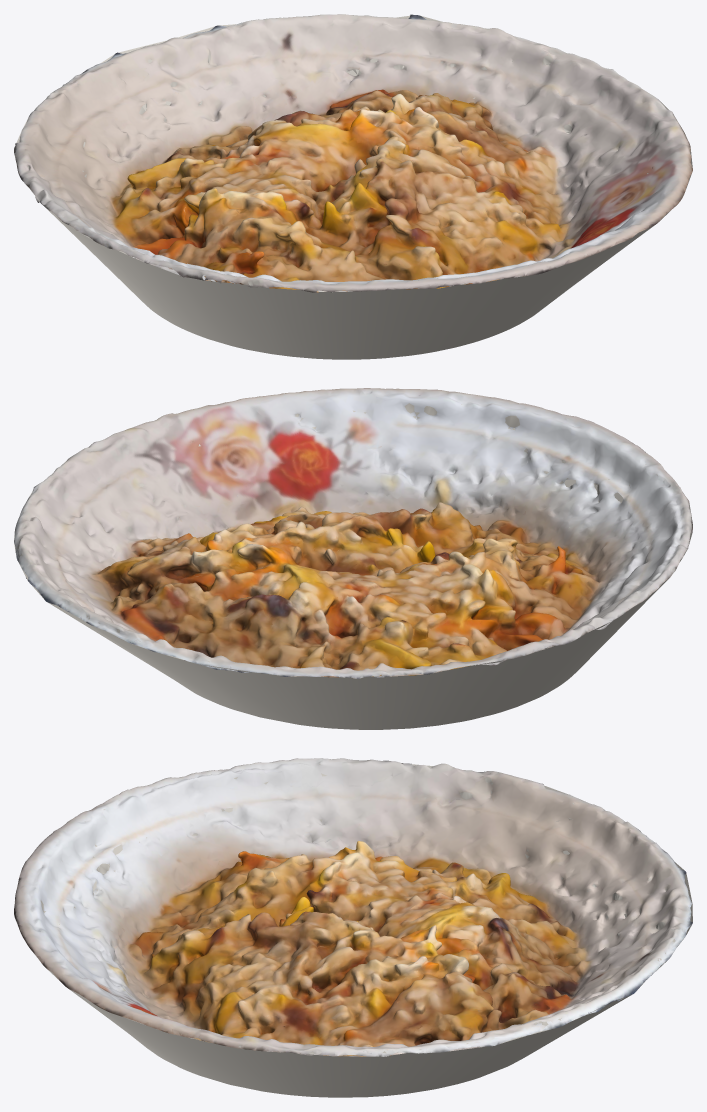
The model's file is osh.glb.
3 renders of one model, top to bottom at view 1: azimuth 30°, elevation 25°; view 2: azimuth 150°, elevation 25°; view 3: azimuth 270°, elevation 25°, orthographic.
Parts seen in each view (by area): view 1: Mesh_0_Part_0; view 2: Mesh_0_Part_0; view 3: Mesh_0_Part_0.
Part boxes in pixels (bbox=[...]): Mesh_0_Part_0: bbox=[14, 14, 692, 359]; Mesh_0_Part_0: bbox=[14, 388, 692, 729]; Mesh_0_Part_0: bbox=[14, 758, 692, 1097].
Size of the model in its own units: 0.2104 by 0.0399 by 0.2112.
Materials: 2 (1 with a texture image).
